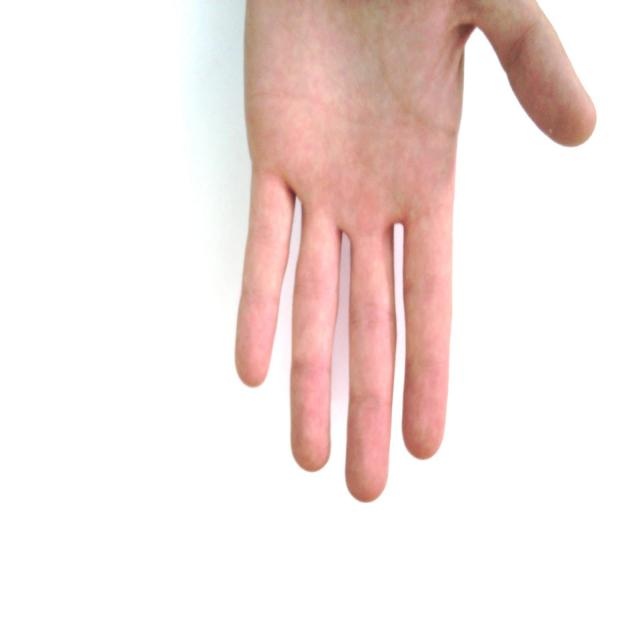others: (154, 1, 624, 500)
